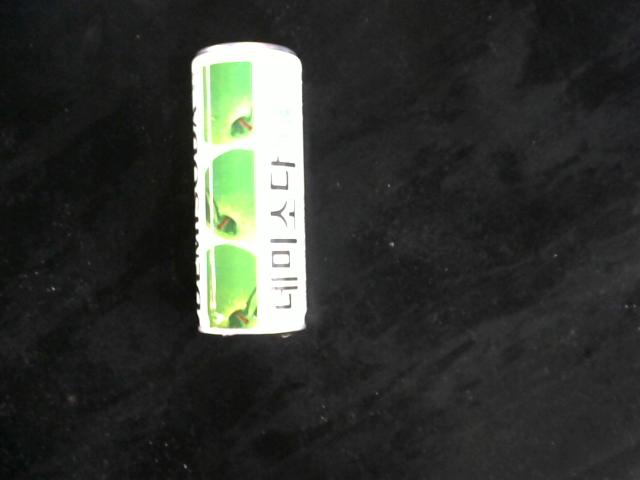can: (190, 40, 309, 341)
